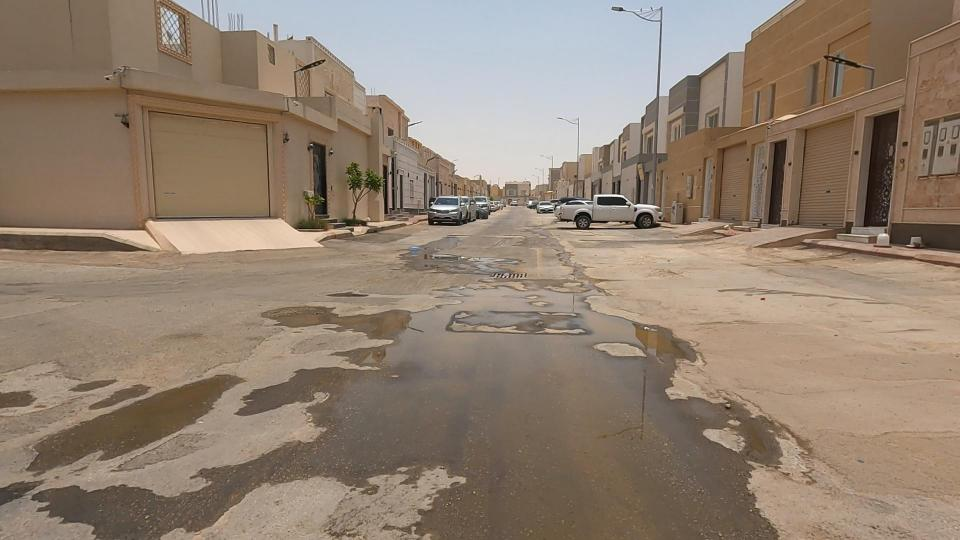POTHOLES: (369, 222, 558, 305)
